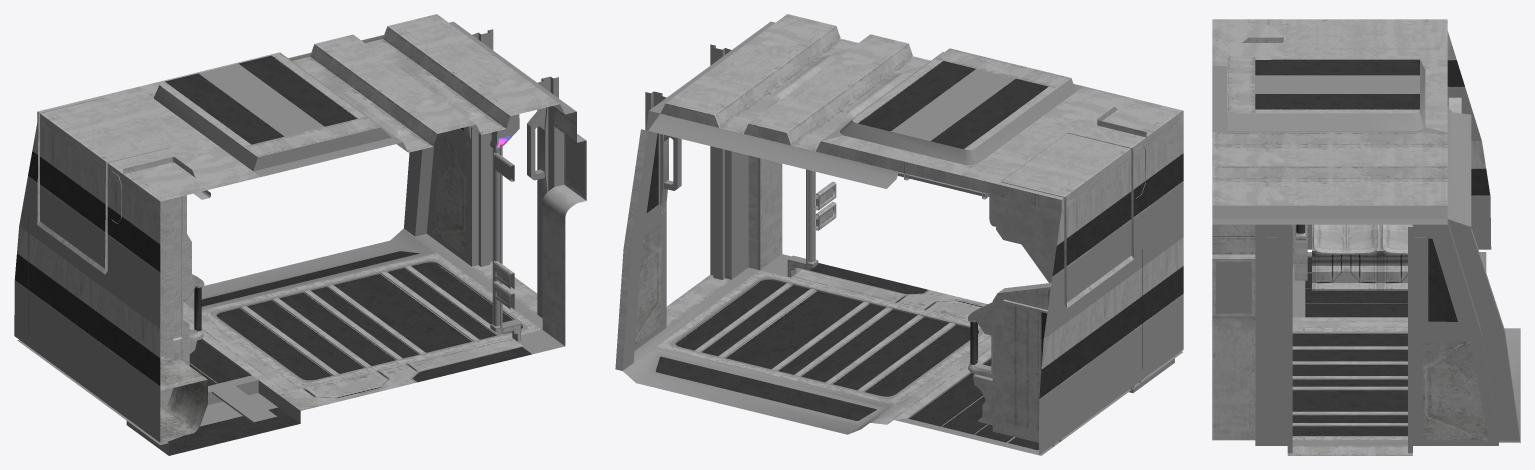
File: Shuttle_Interior_Bay.FBX
3 views of the same model, side by side, from view 1: azimuth 30°, elevation 25°; view 2: azimuth 150°, elevation 25°; view 3: azimuth 270°, elevation 25° (orthographic). The views are drawn at different scales.
Visible parts, largest first — view 1: Shuttle_Interior_Bay; view 2: Shuttle_Interior_Bay; view 3: Shuttle_Interior_Bay.
Boxes of the visible parts, <box> form: Shuttle_Interior_Bay: <box>14,14,586,455</box>; Shuttle_Interior_Bay: <box>615,14,1183,455</box>; Shuttle_Interior_Bay: <box>1212,19,1520,455</box>.
Bounding box in the file's own units: 4.06 × 2.37 × 2.57.
